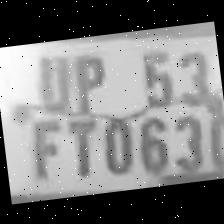0: (92, 106, 136, 176)
3: (166, 103, 208, 173), (170, 40, 217, 102)
5: (129, 42, 176, 106)
6: (127, 106, 173, 176)
F: (15, 106, 66, 186)
P: (62, 46, 113, 114)
T: (56, 108, 100, 180)
U: (26, 46, 71, 113)
